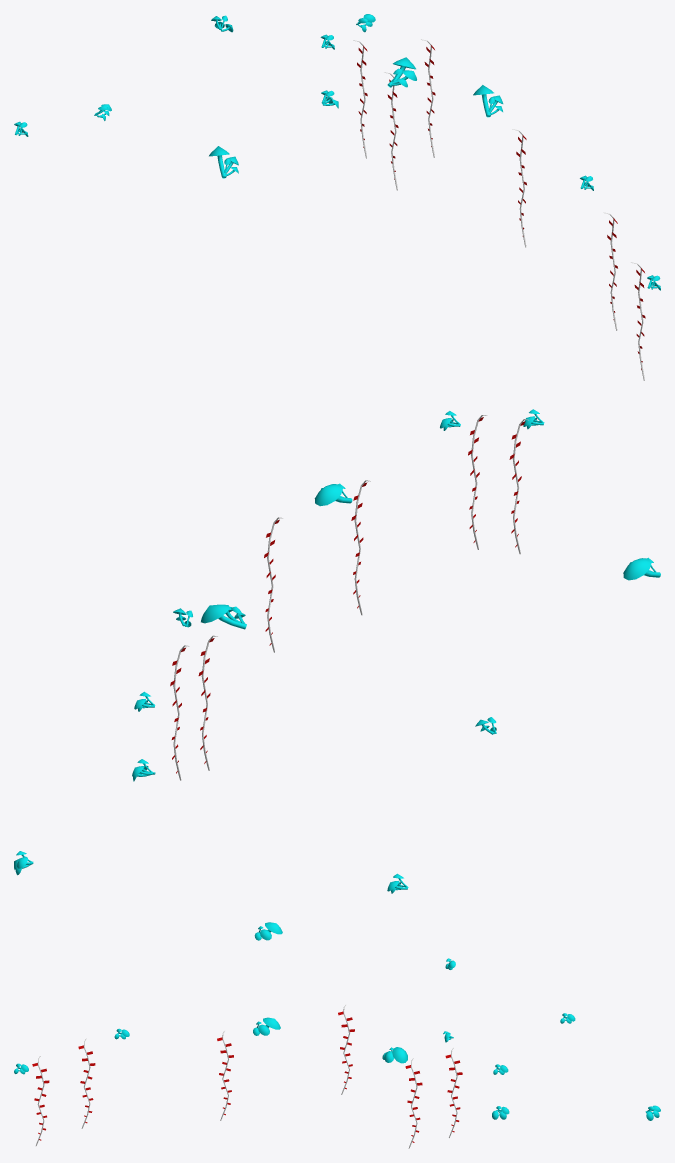
Rendered from bridgedecoration.fbx.
The picture shows the model from 3 angles, top to bottom: view 1: azimuth 30°, elevation 25°; view 2: azimuth 150°, elevation 25°; view 3: azimuth 270°, elevation 25°; orthographic projection. The views are drawn at different scales.
Visible parts, largest first — view 1: polySurface101; view 2: polySurface101; view 3: polySurface101.
Part boxes in pixels (box(x1,y1,x2,y2)): polySurface101: box(14, 14, 660, 380); polySurface101: box(14, 409, 660, 893); polySurface101: box(14, 922, 660, 1148).
Bounding box in the file's own units: 278 × 171 × 730.
